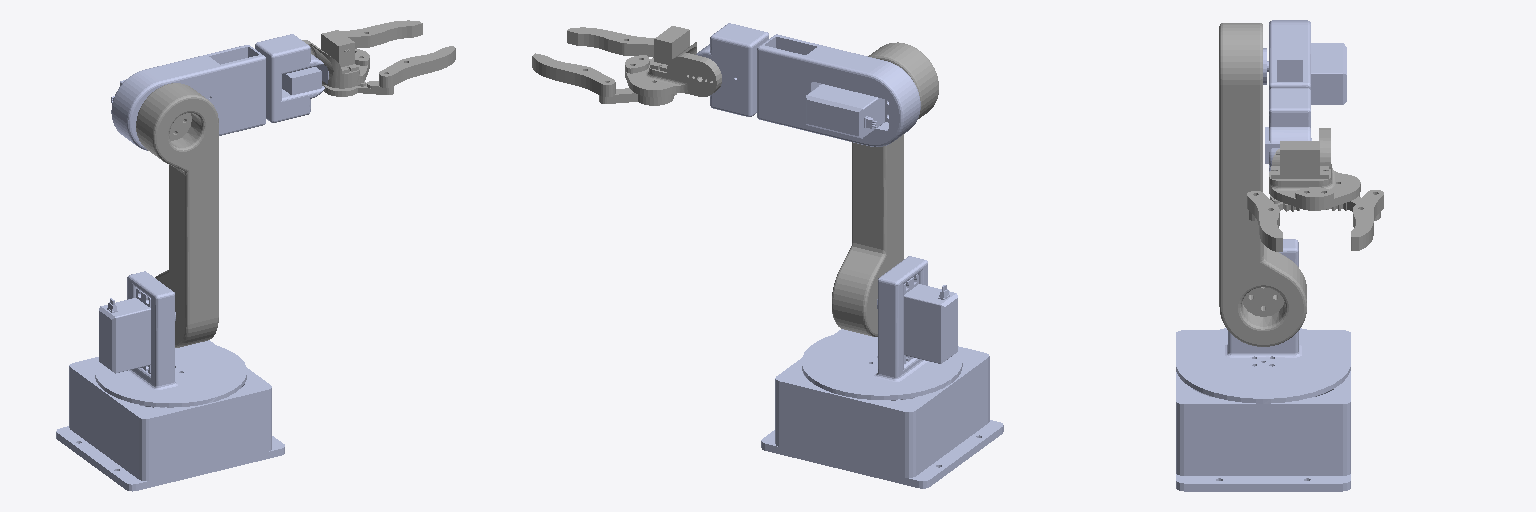
The robot description file, URDF, robot "arm_assembly":
<?xml version="1.0" encoding="utf-8"?>
<!-- This URDF was automatically created by SolidWorks to URDF Exporter! Originally created by
Stephen Brawner (brawner@gmail.com) 
     Commit Version: 1.6.0-4-g7f85cfe  Build Version: 1.6.7995.38578
     For more information, please see http://wiki.ros.org/sw_urdf_exporter -->
<robot name="arm_assembly">
  <link name="world" />
  <joint name="base_world_joint" type="fixed">
    <parent link="world" />
    <child link="base_link" />
    <origin xyz="0 0 0" rpy="0 0 0" />
  </joint>
  <link
    name="base_link">
    <inertial>
      <origin
        xyz="-0.049324 -0.050004 0.023619"
        rpy="0 0 0" />
      <mass
        value="0.24179" />
      <inertia
        ixx="0.00031616"
        ixy="-3.231E-08"
        ixz="-1.4721E-06"
        iyy="0.00034841"
        iyz="-8.2186E-09"
        izz="0.00056511" />
    </inertial>
    <visual>
      <origin
        xyz="0 0 0"
        rpy="0 0 0" />
      <geometry>
        <mesh
          filename="package://robotics_project/meshes/base_link.STL" />
      </geometry>
      <material
        name="">
        <color
          rgba="0.79216 0.81961 0.93333 1" />
      </material>
    </visual>
    <collision>
      <origin
        xyz="0 0 0"
        rpy="0 0 0" />
      <geometry>
        <mesh
          filename="package://robotics_project/meshes/base_link.STL" />
      </geometry>
    </collision>
  </link>
  <link
    name="shoulder_link">
    <inertial>
      <origin
        xyz="-0.01642 0.026663 4.5383E-10"
        rpy="0 0 0" />
      <mass
        value="0.083149" />
      <inertia
        ixx="5.1618E-05"
        ixy="5.7239E-06"
        ixz="1.2037E-12"
        iyy="4.3009E-05"
        iyz="-7.4942E-13"
        izz="5.3421E-05" />
    </inertial>
    <visual>
      <origin
        xyz="0 0 0"
        rpy="0 0 0" />
      <geometry>
        <mesh
          filename="package://robotics_project/meshes/shoulder_link.STL" />
      </geometry>
      <material
        name="">
        <color
          rgba="0.79216 0.81961 0.93333 1" />
      </material>
    </visual>
    <collision>
      <origin
        xyz="0 0 0"
        rpy="0 0 0" />
      <geometry>
        <mesh
          filename="package://robotics_project/meshes/shoulder_link.STL" />
      </geometry>
    </collision>
  </link>
  <joint
    name="shoulder_joint"
    type="revolute">
    <origin
      xyz="-0.04975 -0.05 0.0506"
      rpy="1.5708 0 0" />
    <parent
      link="base_link" />
    <child
      link="shoulder_link" />
    <axis
      xyz="0 1 0" />
    <limit
      lower="-0.01"
      upper="3.14"
      effort="100.0"
      velocity="3.0" />
  </joint>
  <link
    name="arm_1_link">
    <inertial>
      <origin
        xyz="-0.067 -0.0088325 0.0064325"
        rpy="0 0 0" />
      <mass
        value="0.18263" />
      <inertia
        ixx="4.3498E-05"
        ixy="-4.0889E-05"
        ixz="-4.0889E-05"
        iyy="0.00061508"
        iyz="-1.355E-06"
        izz="0.00061508" />
    </inertial>
    <visual>
      <origin
        xyz="0 0 0"
        rpy="0 0 0" />
      <geometry>
        <mesh
          filename="package://robotics_project/meshes/arm_1_link.STL" />
      </geometry>
      <material
        name="">
        <color
          rgba="0.69804 0.69804 0.69804 1" />
      </material>
    </visual>
    <collision>
      <origin
        xyz="0 0 0"
        rpy="0 0 0" />
      <geometry>
        <mesh
          filename="package://robotics_project/meshes/arm_1_link.STL" />
      </geometry>
    </collision>
  </link>
  <joint
    name="arm_1_joint"
    type="revolute">
    <origin
      xyz="0 0.05 0"
      rpy="-1.5708 0 -1.5708" />
    <parent
      link="shoulder_link" />
    <child
      link="arm_1_link" />
    <axis
      xyz="0 0 1" />
    <limit
      lower="-1.57"
      upper="1.57"
      effort="100.0"
      velocity="3.0" />
  </joint>
  <link
    name="arrm_2_link">
    <inertial>
      <origin
        xyz="0.021418 1.4132E-05 -0.018236"
        rpy="0 0 0" />
      <mass
        value="0.11424" />
      <inertia
        ixx="2.8434E-05"
        ixy="9.5439E-08"
        ixz="6.9021E-07"
        iyy="7.4983E-05"
        iyz="-1.5866E-09"
        izz="8.5335E-05" />
    </inertial>
    <visual>
      <origin
        xyz="0 0 0"
        rpy="0 0 0" />
      <geometry>
        <mesh
          filename="package://robotics_project/meshes/arrm_2_link.STL" />
      </geometry>
      <material
        name="">
        <color
          rgba="0.79216 0.81961 0.93333 1" />
      </material>
    </visual>
    <collision>
      <origin
        xyz="0 0 0"
        rpy="0 0 0" />
      <geometry>
        <mesh
          filename="package://robotics_project/meshes/arrm_2_link.STL" />
      </geometry>
    </collision>
  </link>
  <joint
    name="arm_2_joint"
    type="revolute">
    <origin
      xyz="-0.137 0 -0.0024"
      rpy="1.5708 -1.5708 0" />
    <parent
      link="arm_1_link" />
    <child
      link="arrm_2_link" />
    <axis
      xyz="0 0 1" />
    <limit
      lower="-0.873"
      upper="2.269"
      effort="100.0"
      velocity="3.0" />
  </joint>
  <link
    name="wrist_1_link">
    <inertial>
      <origin
        xyz="0.020714 -0.0054239 -0.00017492"
        rpy="0 0 0" />
      <mass
        value="0.038269" />
      <inertia
        ixx="9.4187E-06"
        ixy="4.7853E-09"
        ixz="1.7523E-07"
        iyy="5.7368E-06"
        iyz="-1.5989E-10"
        izz="1.1361E-05" />
    </inertial>
    <visual>
      <origin
        xyz="0 0 0"
        rpy="0 0 0" />
      <geometry>
        <mesh
          filename="package://robotics_project/meshes/wrist_1_link.STL" />
      </geometry>
      <material
        name="">
        <color
          rgba="0.79216 0.81961 0.93333 1" />
      </material>
    </visual>
    <collision>
      <origin
        xyz="0 0 0"
        rpy="0 0 0" />
      <geometry>
        <mesh
          filename="package://robotics_project/meshes/wrist_1_link.STL" />
      </geometry>
    </collision>
  </link>
  <joint
    name="wrist_1_joint"
    type="revolute">
    <origin
      xyz="0.0776 0.00525 -0.0151"
      rpy="0 0 0" />
    <parent
      link="arrm_2_link" />
    <child
      link="wrist_1_link" />
    <axis
      xyz="1 0 0" />
    <limit
      lower="-1.57"
      upper="1.57"
      effort="100.0"
      velocity="3.0" />
  </joint>
  <link
    name="wrist_2_link">
    <inertial>
      <origin
        xyz="-0.0054965 0.0031022 -0.028056"
        rpy="0 0 0" />
      <mass
        value="0.028662" />
      <inertia
        ixx="5.1487E-06"
        ixy="6.829E-07"
        ixz="-1.4139E-06"
        iyy="8.2956E-06"
        iyz="9.021E-07"
        izz="5.7017E-06" />
    </inertial>
    <visual>
      <origin
        xyz="0 0 0"
        rpy="0 0 0" />
      <geometry>
        <mesh
          filename="package://robotics_project/meshes/wrist_2_link.STL" />
      </geometry>
      <material
        name="">
        <color
          rgba="0.69804 0.69804 0.69804 1" />
      </material>
    </visual>
    <collision>
      <origin
        xyz="0 0 0"
        rpy="0 0 0" />
      <geometry>
        <mesh
          filename="package://robotics_project/meshes/wrist_2_link.STL" />
      </geometry>
    </collision>
  </link>
  <joint
    name="wrist_2_joint"
    type="revolute">
    <origin
      xyz="0.033 -0.00544 0"
      rpy="-0.050977 0.94745 3.1273" />
    <parent
      link="wrist_1_link" />
    <child
      link="wrist_2_link" />
    <axis
      xyz="0.81193 0.029745 -0.583" />
    <limit
      lower="-0.785"
      upper="0.785"
      effort="100.0"
      velocity="3.0" />
  </joint>
  <link
    name="geared_r_link">
    <inertial>
      <origin
        xyz="-0.0069954 0.0072095 0.0014279"
        rpy="0 0 0" />
      <mass
        value="0.0038122" />
      <inertia
        ixx="1.5043E-07"
        ixy="-2.4068E-08"
        ixz="1.1802E-07"
        iyy="6.8511E-07"
        iyz="1.0386E-08"
        izz="5.5129E-07" />
    </inertial>
    <visual>
      <origin
        xyz="0 0 0"
        rpy="0 0 0" />
      <geometry>
        <mesh
          filename="package://robotics_project/meshes/geared_r_link.STL" />
      </geometry>
      <material
        name="">
        <color
          rgba="0.69804 0.69804 0.69804 1" />
      </material>
    </visual>
    <collision>
      <origin
        xyz="0 0 0"
        rpy="0 0 0" />
      <geometry>
        <mesh
          filename="package://robotics_project/meshes/geared_r_link.STL" />
      </geometry>
    </collision>
  </link>
  <joint
    name="geared_r_joint"
    type="revolute">
    <origin
      xyz="-0.017172 0.0094779 -0.024547"
      rpy="0.0091611 -0.47376 -0.02123" />
    <parent
      link="wrist_2_link" />
    <child
      link="geared_r_link" />
    <axis
      xyz="0.0083501 -0.99919 -0.039351" />
    <limit
      lower="-0.5"
      upper="0.7"
      effort="100.0"
      velocity="3.0" />
  </joint>
  <link
    name="finger_r_link">
    <inertial>
      <origin
        xyz="0.00425 0.0045132 -0.03189"
        rpy="0 0 0" />
      <mass
        value="0.0067468" />
      <inertia
        ixx="2.1424E-06"
        ixy="1.5545E-11"
        ixz="8.1167E-12"
        iyy="1.9948E-06"
        iyz="4.6677E-07"
        izz="2.2885E-07" />
    </inertial>
    <visual>
      <origin
        xyz="0 0 0"
        rpy="0 0 0" />
      <geometry>
        <mesh
          filename="package://robotics_project/meshes/finger_r_link.STL" />
      </geometry>
      <material
        name="">
        <color
          rgba="0.69804 0.69804 0.69804 1" />
      </material>
    </visual>
    <collision>
      <origin
        xyz="0 0 0"
        rpy="0 0 0" />
      <geometry>
        <mesh
          filename="package://robotics_project/meshes/finger_r_link.STL" />
      </geometry>
    </collision>
  </link>
  <joint
    name="finger_r_joint"
    type="revolute">
    <origin
      xyz="-0.028821 -0.0051594 0.0076671"
      rpy="0.68876 -0.039361 1.5792" />
    <parent
      link="geared_r_link" />
    <child
      link="finger_r_link" />
    <axis
      xyz="1 0 0" />
    <limit
      lower="-0.41"
      upper="0.574"
      effort="100.0"
      velocity="3.0" />
  </joint>
  <link
    name="geared_l_link">
    <inertial>
      <origin
        xyz="0.0055788 0.003 -0.00060197"
        rpy="0 0 0" />
      <mass
        value="0.004953" />
      <inertia
        ixx="1.7709E-07"
        ixy="-2.8671E-18"
        ixz="-1.7358E-08"
        iyy="8.3857E-07"
        iyz="-5.6631E-19"
        izz="6.912E-07" />
    </inertial>
    <visual>
      <origin
        xyz="0 0 0"
        rpy="0 0 0" />
      <geometry>
        <mesh
          filename="package://robotics_project/meshes/geared_l_link.STL" />
      </geometry>
      <material
        name="">
        <color
          rgba="0.69804 0.69804 0.69804 1" />
      </material>
    </visual>
    <collision>
      <origin
        xyz="0 0 0"
        rpy="0 0 0" />
      <geometry>
        <mesh
          filename="package://robotics_project/meshes/geared_l_link.STL" />
      </geometry>
    </collision>
  </link>
  <joint
    name="geared_l_joint"
    type="revolute">
    <origin
      xyz="0.0046395 0.013762 -0.040092"
      rpy="0.42357 1.4749 0.43021" />
    <parent
      link="wrist_2_link" />
    <child
      link="geared_l_link" />
    <axis
      xyz="0 1 0" />
    <limit
      lower="-0.5"
      upper="0.7"
      effort="100.0"
      velocity="3.0" />
  </joint>
  <link
    name="finger_l_link">
    <inertial>
      <origin
        xyz="0.00425 0.0045132 -0.03189"
        rpy="0 0 0" />
      <mass
        value="0.0067468" />
      <inertia
        ixx="2.1424E-06"
        ixy="1.5545E-11"
        ixz="8.1185E-12"
        iyy="1.9948E-06"
        iyz="4.6677E-07"
        izz="2.2885E-07" />
    </inertial>
    <visual>
      <origin
        xyz="0 0 0"
        rpy="0 0 0" />
      <geometry>
        <mesh
          filename="package://robotics_project/meshes/finger_l_link.STL" />
      </geometry>
      <material
        name="">
        <color
          rgba="0.69804 0.69804 0.69804 1" />
      </material>
    </visual>
    <collision>
      <origin
        xyz="0 0 0"
        rpy="0 0 0" />
      <geometry>
        <mesh
          filename="package://robotics_project/meshes/finger_l_link.STL" />
      </geometry>
    </collision>
  </link>
  <joint
    name="finger_l_joint"
    type="revolute">
    <origin
      xyz="0.03 0 0.0021147"
      rpy="0.48168 0 -1.5708" />
    <parent
      link="geared_l_link" />
    <child
      link="finger_l_link" />
    <axis
      xyz="1 0 0" />
    <limit
      lower="-0.41"
      upper="0.574"
      effort="100.0"
      velocity="3.0" />
  </joint>

  <ros2_control name="arm_assembly" type="system">
    <hardware>
      <plugin>gz_ros2_control/GazeboSimSystem</plugin>
    </hardware>
    <joint name="shoulder_joint">
      <command_interface name="position">
        <param name="min">-0.01</param>
        <param name="max">3.14</param>
      </command_interface>
      <state_interface name="position">
        <param name="initial_value">0.0</param>
      </state_interface>
      <state_interface name="velocity">
        <param name="initial_value">0.0</param>
      </state_interface>
    </joint>

    <joint name="arm_1_joint">
      <command_interface name="position">
        <param name="min">-1.57</param>
        <param name="max">1.57</param>
      </command_interface>
      <state_interface name="position">
        <param name="initial_value">0.0</param>
      </state_interface>
      <state_interface name="velocity">
        <param name="initial_value">0.0</param>
      </state_interface>
    </joint>

    <joint name="arm_2_joint">
      <command_interface name="position">
        <param name="min">-0.873</param>
        <param name="max">2.269</param>
      </command_interface>
      <state_interface name="position">
        <param name="initial_value">0.0</param>
      </state_interface>
      <state_interface name="velocity">
        <param name="initial_value">0.0</param>
      </state_interface>
    </joint>

    <joint name="wrist_1_joint">
      <command_interface name="position">
        <param name="min">0</param>
        <param name="max">3.14</param>
      </command_interface>
      <state_interface name="position">
        <param name="initial_value">0.0</param>
      </state_interface>
      <state_interface name="velocity">
        <param name="initial_value">0.0</param>
      </state_interface>
    </joint>

    <joint name="wrist_2_joint">
      <command_interface name="position">
        <param name="min">-0.785</param>
        <param name="max">0.785</param>
      </command_interface>
      <state_interface name="position">
        <param name="initial_value">0.0</param>
      </state_interface>
      <state_interface name="velocity">
        <param name="initial_value">0.0</param>
      </state_interface>
    </joint>

    <joint name="geared_r_joint">
      <command_interface name="position">
        <param name="min">-0.5</param>
        <param name="max">0.7</param>
      </command_interface>
      <state_interface name="position">
        <param name="initial_value">0.0</param>
      </state_interface>
      <state_interface name="velocity">
        <param name="initial_value">0.0</param>
      </state_interface>
    </joint>

    <joint name="geared_l_joint">
      <command_interface name="position">
        <param name="min">-0.5</param>
        <param name="max">0.7</param>
      </command_interface>
      <state_interface name="position">
        <param name="initial_value">0.0</param>
      </state_interface>
      <state_interface name="velocity">
        <param name="initial_value">0.0</param>
      </state_interface>
    </joint>

    <joint name="finger_r_joint">
      <command_interface name="position">
        <param name="min">-0.41</param>
        <param name="max">0.574</param>
      </command_interface>
      <state_interface name="position">
        <param name="initial_value">0.0</param>
      </state_interface>
      <state_interface name="velocity">
        <param name="initial_value">0.0</param>
      </state_interface>
    </joint>

    <joint name="finger_l_joint">
      <command_interface name="position">
        <param name="min">-0.41</param>
        <param name="max">0.574</param>
      </command_interface>
      <state_interface name="position">
        <param name="initial_value">0.0</param>
      </state_interface>
      <state_interface name="velocity">
        <param name="initial_value">0.0</param>
      </state_interface>
    </joint>
  </ros2_control>

  <gazebo>
    <plugin filename="gz_ros2_control-system"
      name="gz_ros2_control::GazeboSimROS2ControlPlugin">
      <parameters>
        /home/nour/robotics_ws/install/robotics_project/share/robotics_project/config/joint_controller.yaml </parameters>
    </plugin>
  </gazebo>

</robot>

--- Facts derived from the render (not from the file) ---
The picture shows the robot from 3 angles, left to right: view 1: azimuth 30°, elevation 25°; view 2: azimuth 150°, elevation 25°; view 3: azimuth 270°, elevation 25°; orthographic projection.
Robot: arm_assembly — 11 links, 10 joints (9 revolute, 1 fixed); root link world; default pose: all joints at 0.
Visible links, largest first — view 1: base_link, arm_1_link, shoulder_link, arrm_2_link, wrist_1_link, wrist_2_link, finger_r_link, finger_l_link, geared_r_link; view 2: base_link, shoulder_link, arrm_2_link, arm_1_link, wrist_2_link, wrist_1_link, finger_l_link, finger_r_link, geared_l_link; view 3: base_link, arm_1_link, shoulder_link, arrm_2_link, wrist_2_link, wrist_1_link, finger_r_link, finger_l_link.
Link boxes in pixels (x1,y1,x2,y2): base_link: (56, 340, 284, 491); arm_1_link: (136, 83, 218, 347); shoulder_link: (95, 271, 246, 407); arrm_2_link: (111, 45, 265, 150); wrist_1_link: (255, 34, 328, 122); wrist_2_link: (302, 30, 369, 88); finger_r_link: (379, 46, 455, 87); finger_l_link: (340, 20, 422, 48); geared_r_link: (322, 81, 393, 96); base_link: (761, 329, 1003, 488); shoulder_link: (802, 256, 962, 399); arrm_2_link: (757, 34, 920, 146); arm_1_link: (832, 42, 938, 336); wrist_2_link: (625, 26, 721, 97); wrist_1_link: (696, 23, 768, 116); finger_l_link: (532, 53, 615, 96); finger_r_link: (567, 27, 654, 56); geared_l_link: (599, 88, 676, 105); base_link: (1176, 330, 1350, 491); arm_1_link: (1219, 23, 1306, 346); shoulder_link: (1176, 239, 1350, 403); arrm_2_link: (1263, 20, 1346, 104); wrist_2_link: (1269, 128, 1360, 210); wrist_1_link: (1265, 88, 1311, 171); finger_r_link: (1247, 191, 1282, 251); finger_l_link: (1351, 190, 1383, 250).
Size in the robot's own frame: 0.2798 by 0.1188 by 0.2626 metres.
10 mesh visuals loaded from 10 distinct referenced files (10 binary STL).
